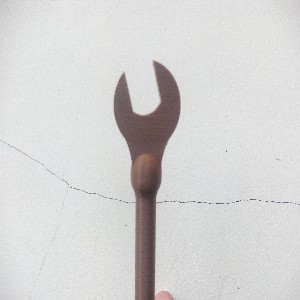spanner: (111, 61, 181, 300)
